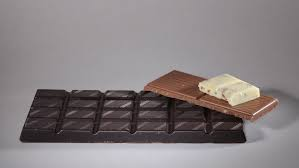Chocolate: (18, 80, 259, 150), (147, 60, 278, 122)
